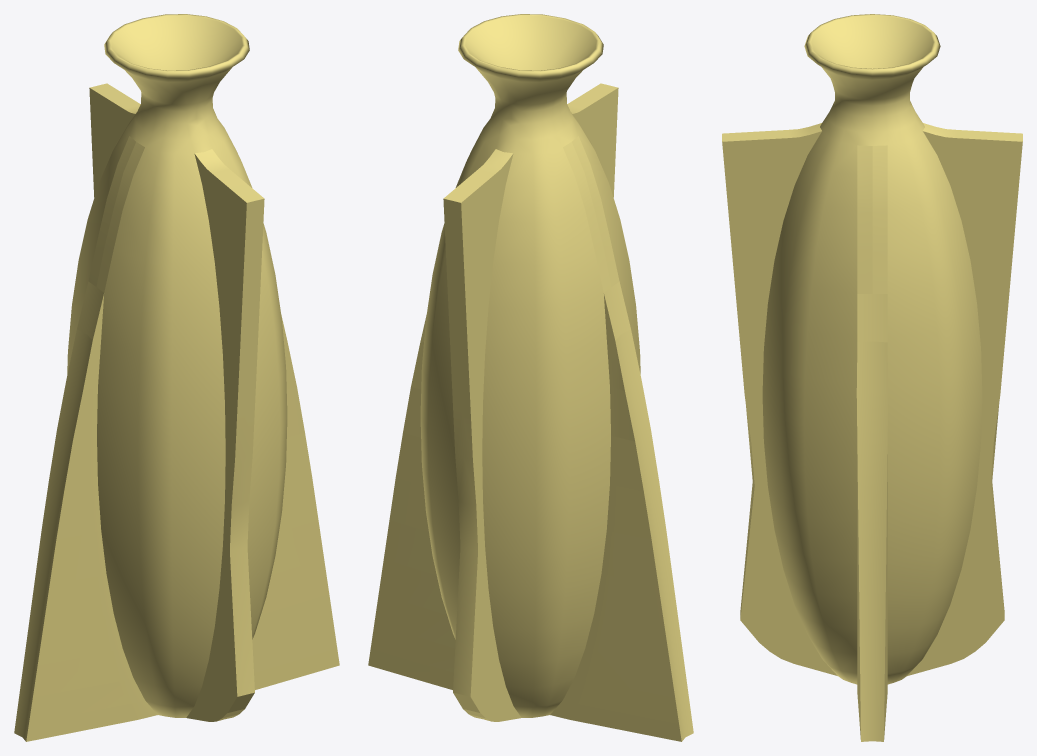
File: vase.fbx
3 renders of one model, left to right at view 1: azimuth 30°, elevation 25°; view 2: azimuth 150°, elevation 25°; view 3: azimuth 270°, elevation 25°, orthographic. The views are drawn at different scales.
Visible parts, largest first — view 1: vase; view 2: vase; view 3: vase.
Boxes of the visible parts, bbox=[...] form: vase: bbox=[14, 14, 339, 741]; vase: bbox=[368, 14, 693, 741]; vase: bbox=[722, 14, 1022, 741].
Bounding box in the file's own units: 30.88 × 62.09 × 26.86.
